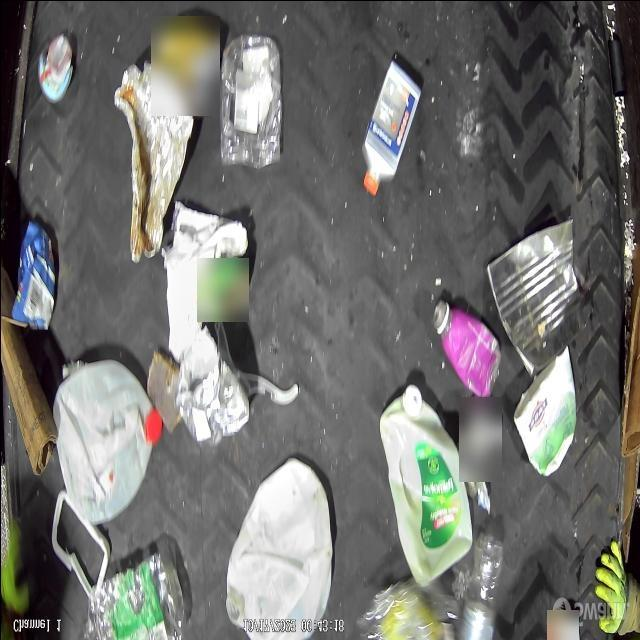milk_jug: (226, 457, 334, 638), (378, 384, 472, 582), (54, 360, 160, 524)
plastic_bottle: (460, 534, 502, 640)
